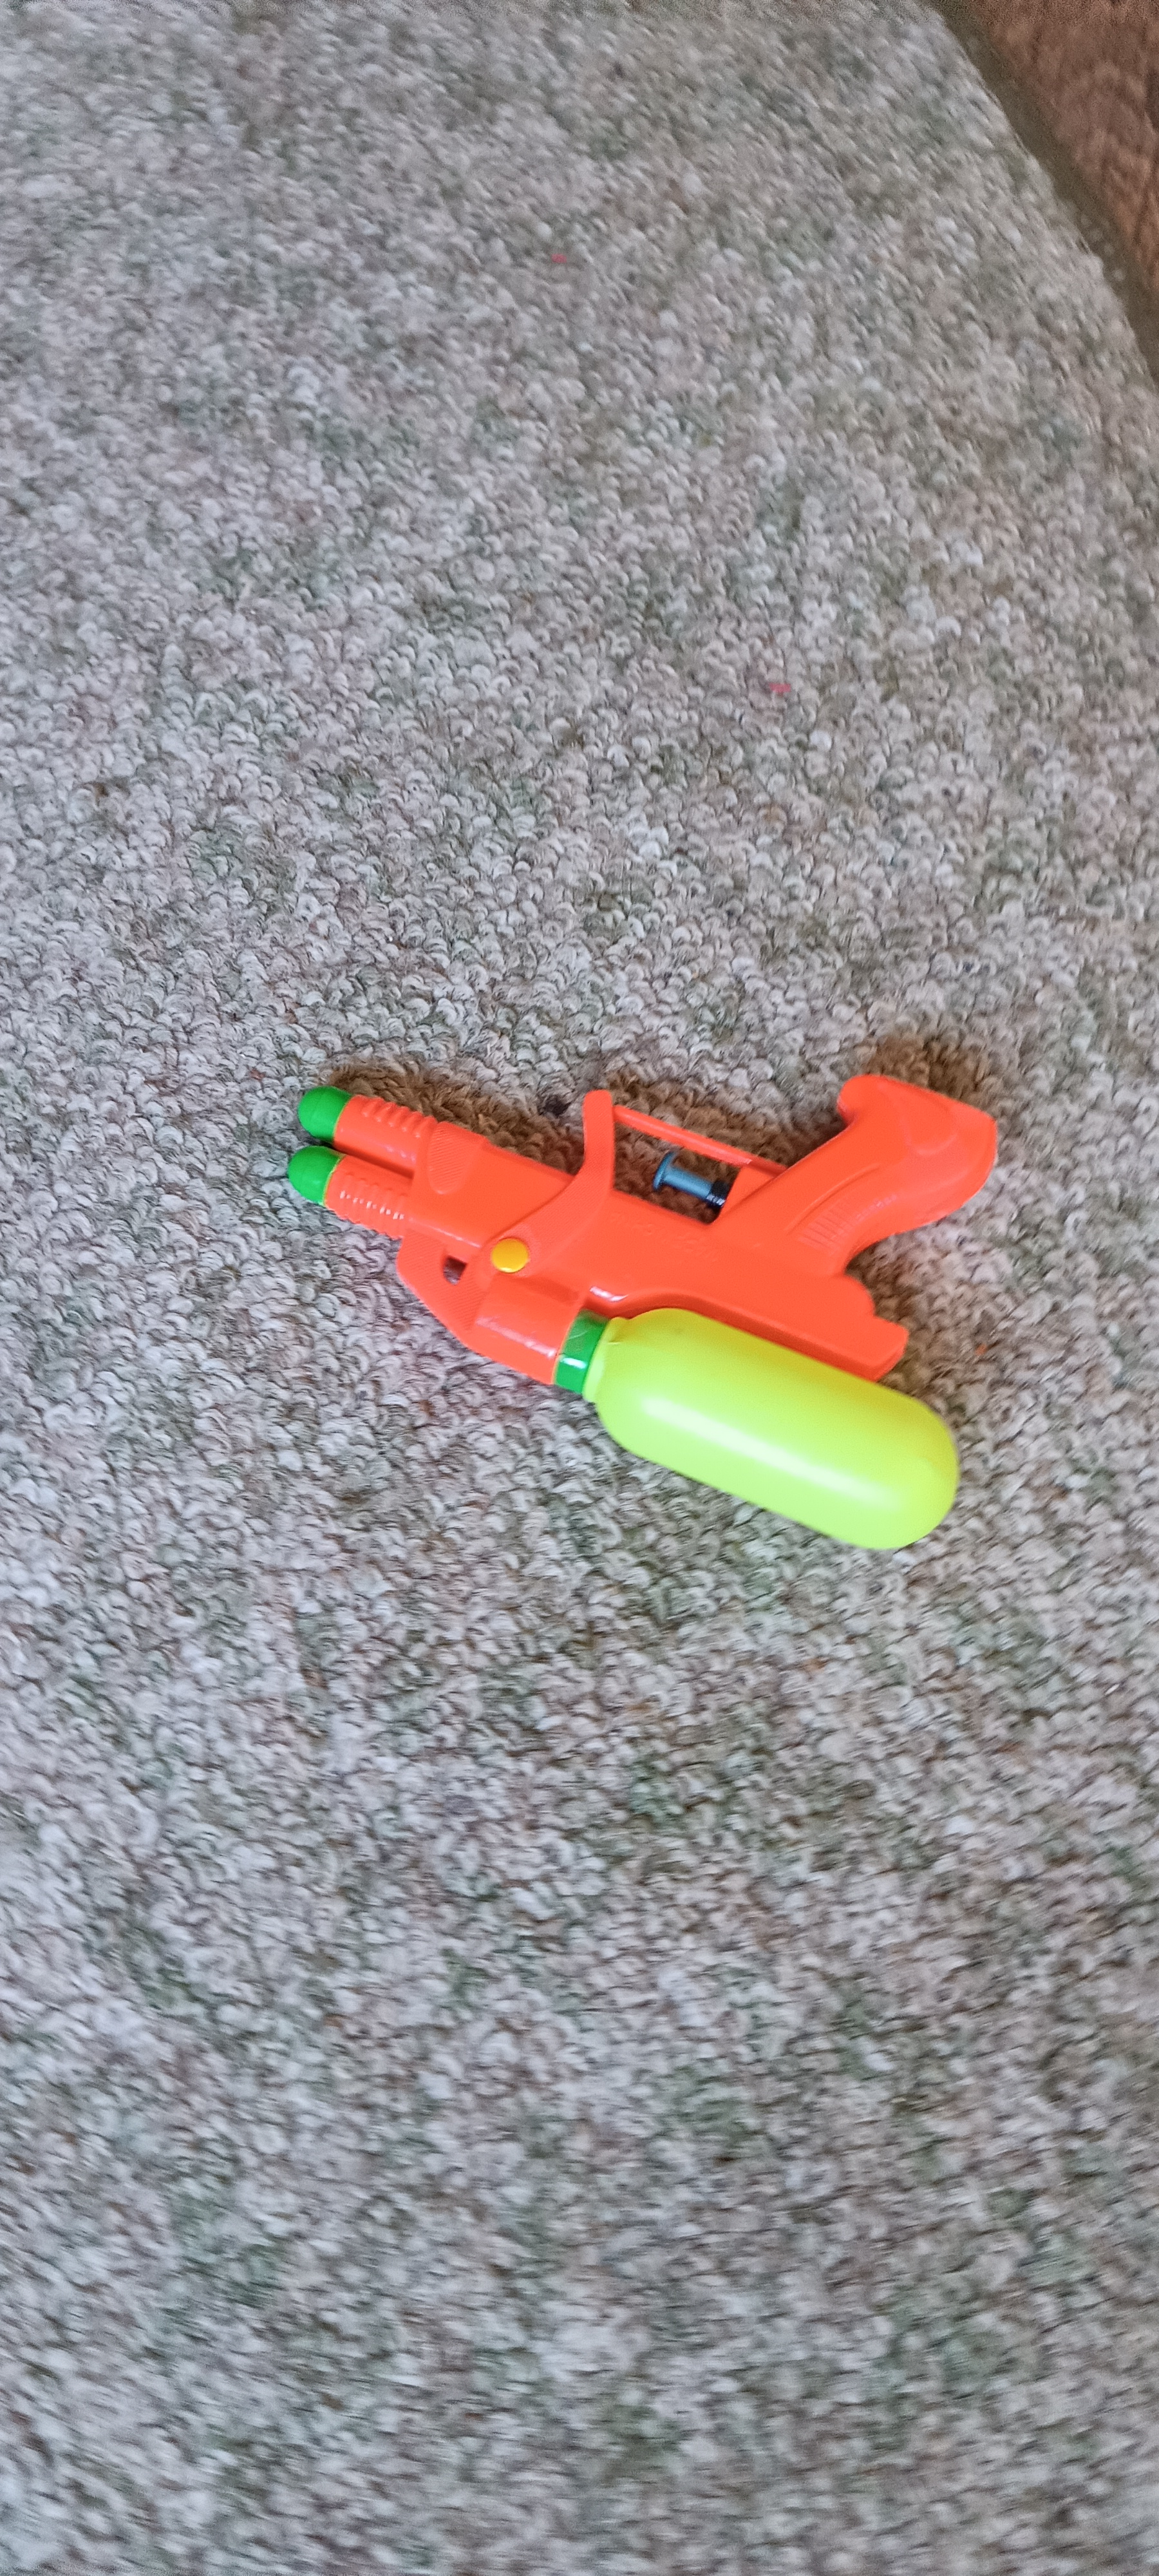Water Gun: (287, 1073, 998, 1548)
